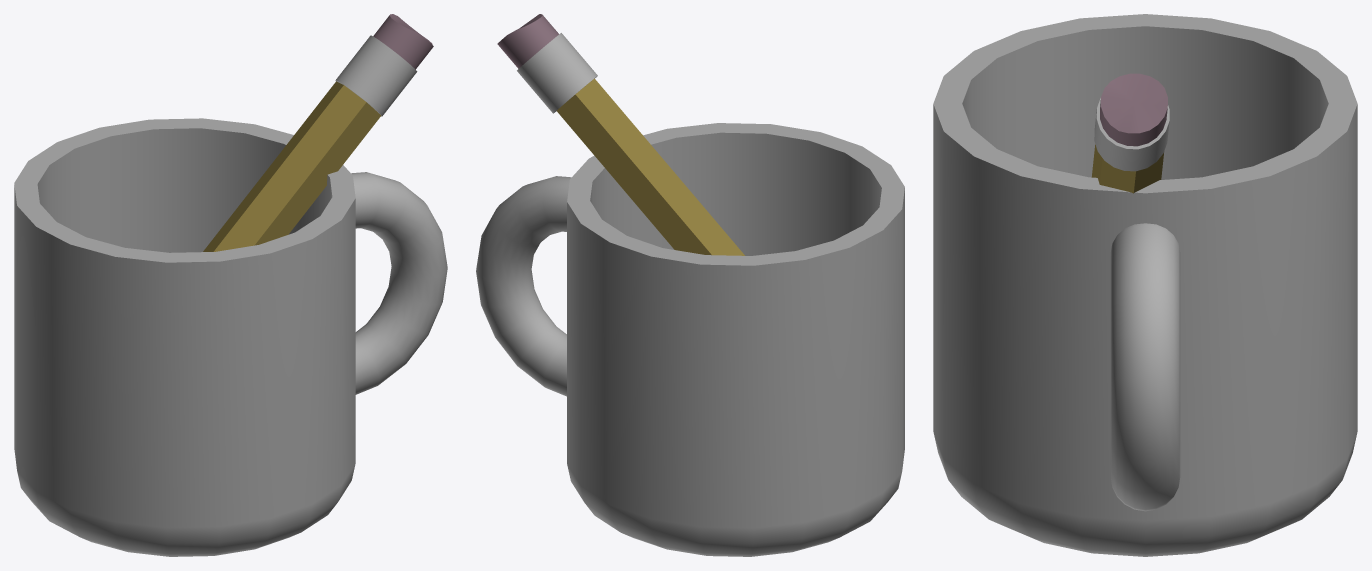
File: MugWPencil.fbx
3 renders of one model, left to right at view 1: azimuth 30°, elevation 25°; view 2: azimuth 150°, elevation 25°; view 3: azimuth 270°, elevation 25°, orthographic. The views are drawn at different scales.
Parts seen in each view (by area): view 1: Mug, pCylinder1; view 2: Mug, pCylinder1; view 3: Mug, pCylinder1.
Part boxes in pixels (x1,y1,x2,y2): Mug: (14,118,447,556); pCylinder1: (203,14,433,251); Mug: (476,123,904,556); pCylinder1: (497,14,744,255); Mug: (933,14,1357,556); pCylinder1: (1091,73,1169,193).
Size of the model in its own units: 0.7684 by 0.7835 by 0.5603.
